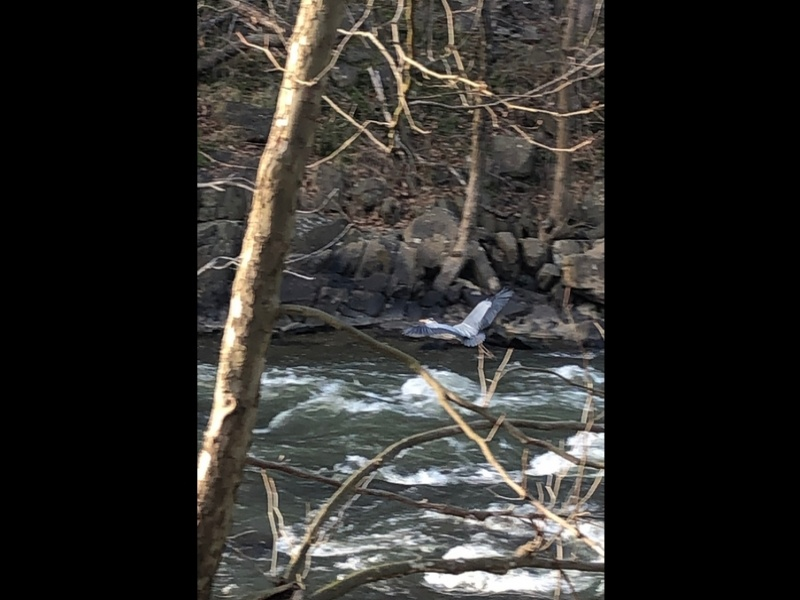heron: (402, 288, 516, 359)
